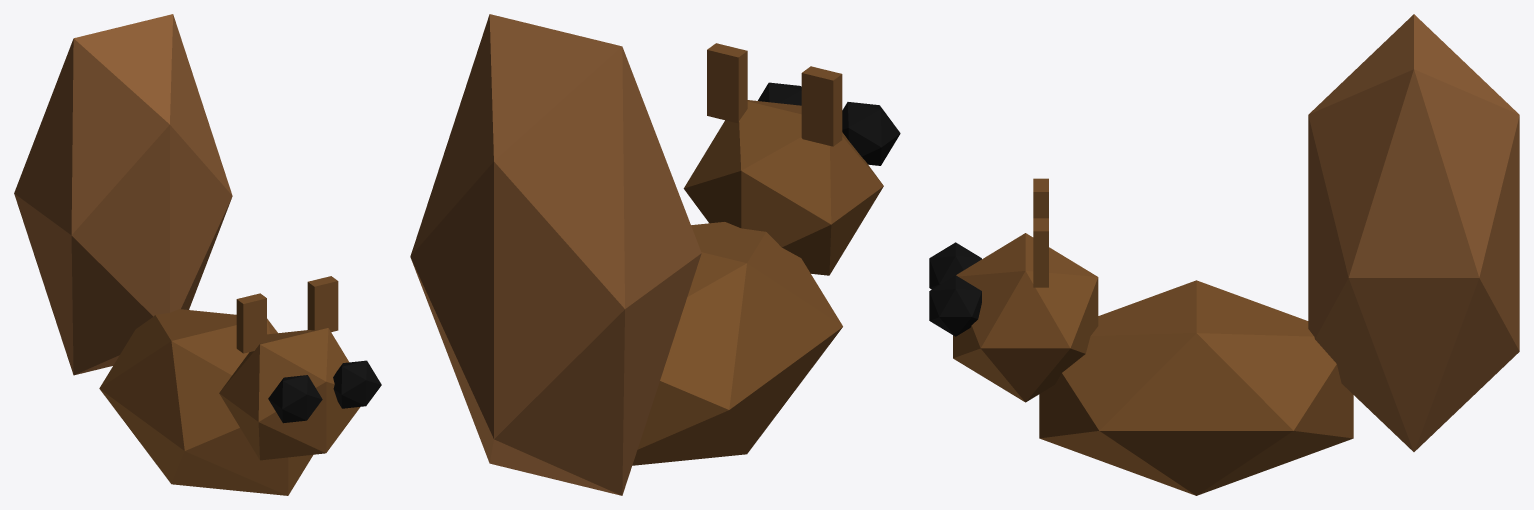
The model's file is squirrel.glb.
3 renders of one model, left to right at view 1: azimuth 30°, elevation 25°; view 2: azimuth 150°, elevation 25°; view 3: azimuth 270°, elevation 25°, orthographic. The views are drawn at different scales.
Parts seen in each view (by area): view 1: body; view 2: body; view 3: body.
Boxes of the visible parts, box(x1,y1,x2,y2) form: body: box(14, 14, 381, 495); body: box(410, 14, 900, 495); body: box(929, 14, 1519, 495).
Size of the model in its own units: 0.2722 by 0.6079 by 0.7601.
